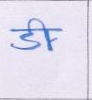i_matra: (31, 18, 57, 50)
